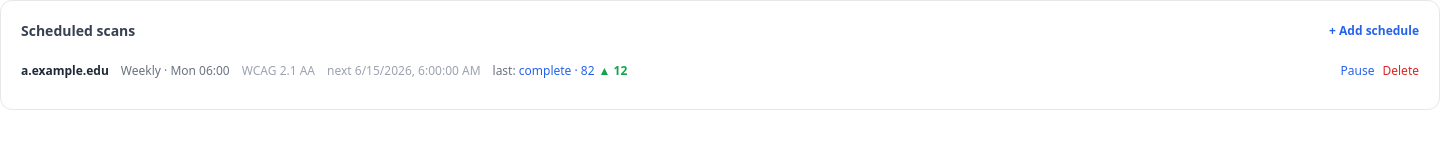
ScheduledScansCard › delete asks for confirmation and DELETEs on accept
The width and height of the screenshot is (1440, 160).
Click the button "Delete".
click(1401, 71)  # box [1382,63,1419,79]
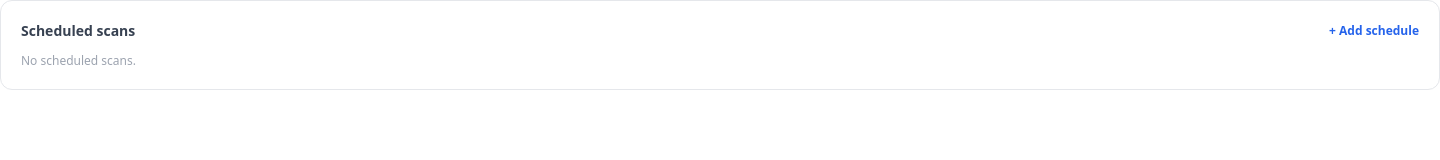
Result: the text "No scheduled scans." is shown at [21,52,136,69]
